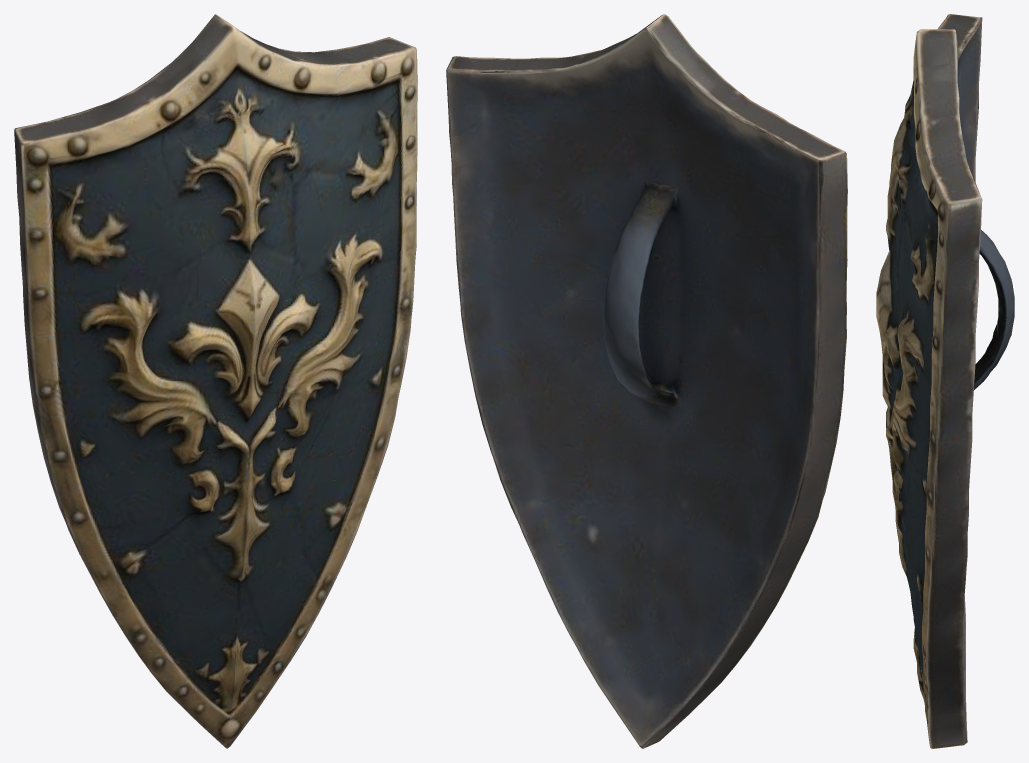
Rendered from PF_Shield9.glb.
3 views of the same model, side by side, from view 1: azimuth 30°, elevation 25°; view 2: azimuth 150°, elevation 25°; view 3: azimuth 270°, elevation 25° (orthographic).
Bounding box in the file's own units: 1.08 × 1.91 × 0.3327.
1 material, 1 textured.
